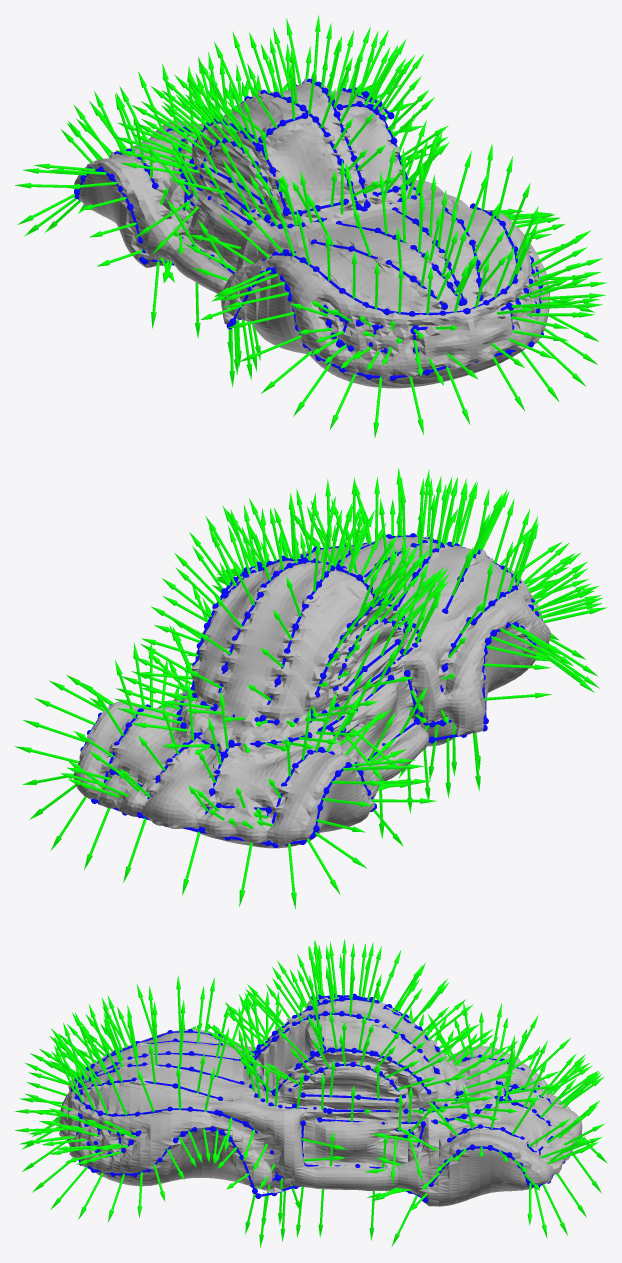
The model's file is author1_car.gltf.
The picture shows the model from 3 angles, top to bottom: view 1: azimuth 30°, elevation 25°; view 2: azimuth 150°, elevation 25°; view 3: azimuth 270°, elevation 25°; orthographic projection. The views are drawn at different scales.
Bounding box in the file's own units: 0.5823 × 0.4662 × 1.01.
